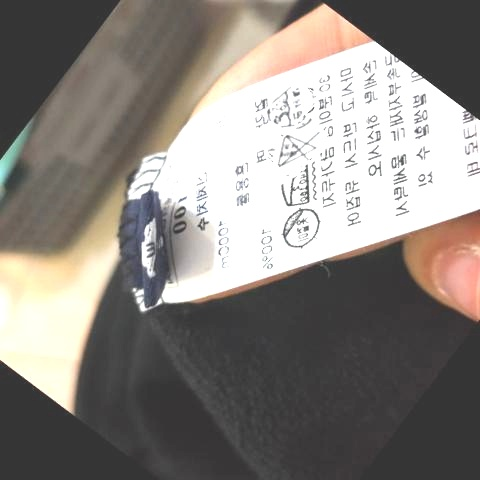hand_wash: (268, 82, 308, 127)
iron_medium: (276, 168, 312, 206)
line_dry_in_shade: (276, 205, 323, 251)
non_chlorine_bleach: (275, 132, 318, 166)
